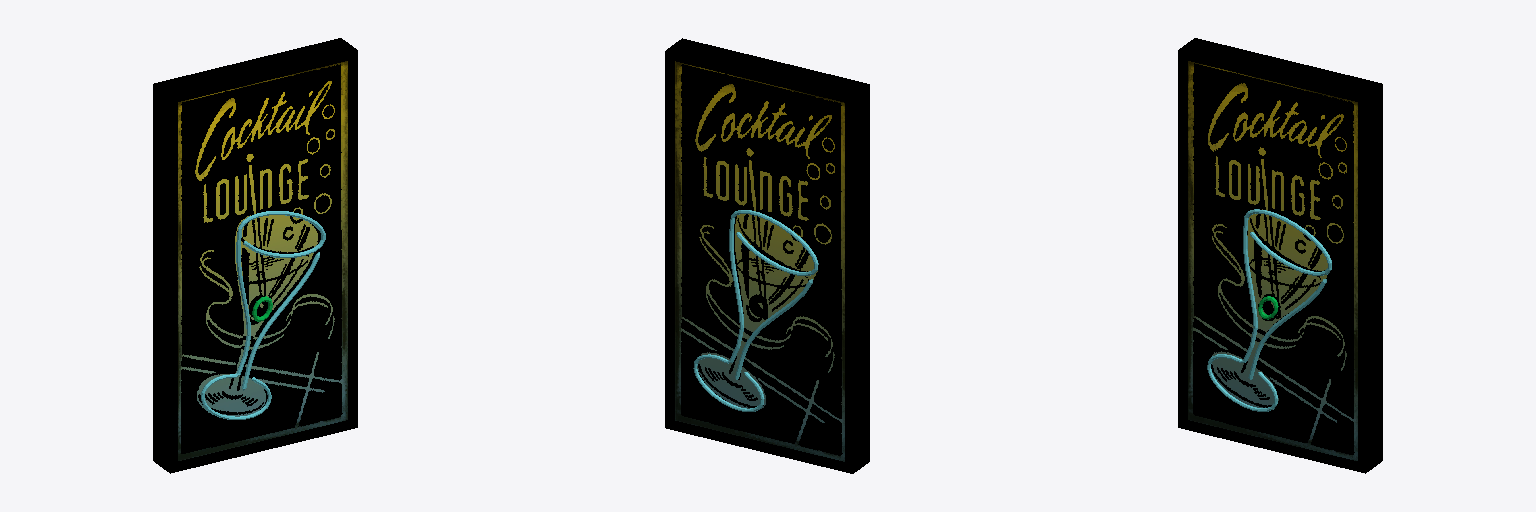
3 renders of one model, left to right at view 1: azimuth 30°, elevation 25°; view 2: azimuth 150°, elevation 25°; view 3: azimuth 330°, elevation 25°, orthographic.
Parts seen in each view (by area): view 1: martini_neon; view 2: martini_neon; view 3: martini_neon.
Part boxes in pixels (bbox=[...]): martini_neon: bbox=[153, 38, 357, 473]; martini_neon: bbox=[665, 38, 869, 473]; martini_neon: bbox=[1178, 38, 1382, 473].
Size of the model in its own units: 279 by 535 by 54.32.
Materials: 2 (2 with a texture image).